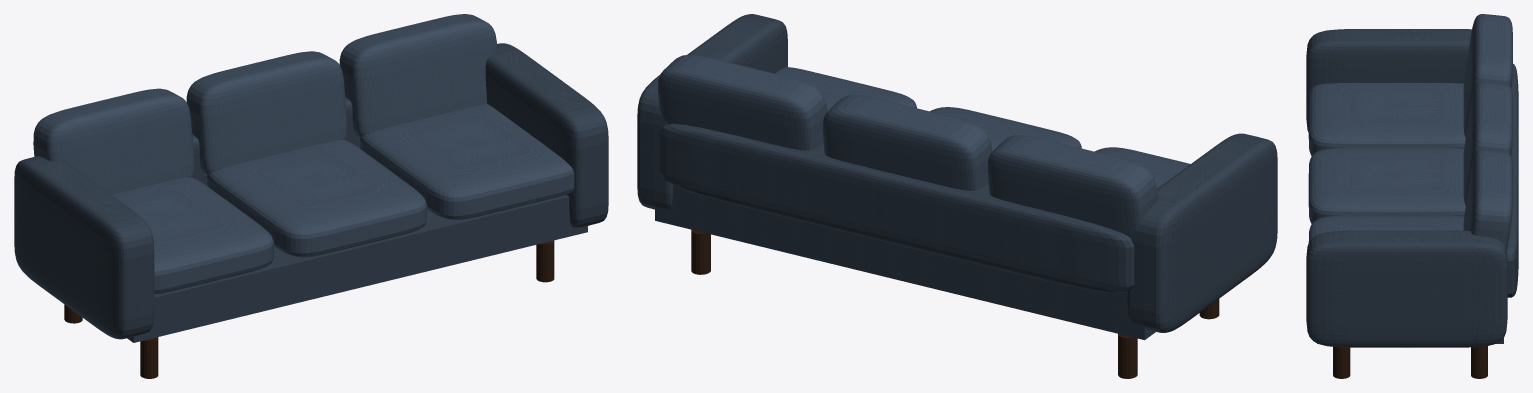
File: sofa-3_lod1.glb
3 views of the same model, side by side, from view 1: azimuth 30°, elevation 25°; view 2: azimuth 150°, elevation 25°; view 3: azimuth 270°, elevation 25° (orthographic). The views are drawn at different scales.
Visible parts, largest first — view 1: frame_base, arm_left, seat_2, seat_3, back_2, back_3, back_1, seat_1, arm_right, leg_4, leg_3, back_rail; view 2: back_rail, arm_left, frame_base, back_3, back_2, back_1, arm_right, seat_2, seat_3, seat_1, leg_2, leg_1; view 3: arm_right, seat_2, seat_1, arm_left, back_3, back_1, back_2, seat_3, back_rail, leg_4, leg_2.
Part boxes in pixels (x1,y1,x2,y2): frame_base: (127, 195, 587, 342); arm_left: (14, 156, 154, 339); seat_2: (207, 140, 426, 257); seat_3: (360, 104, 574, 219); back_2: (186, 51, 347, 176); back_3: (339, 14, 497, 138); back_1: (33, 88, 194, 194); seat_1: (112, 177, 273, 294); arm_right: (485, 43, 608, 228); leg_4: (536, 240, 554, 282); leg_3: (140, 337, 158, 378); back_rail: (192, 97, 359, 185); back_rail: (659, 123, 1134, 293); arm_left: (1127, 133, 1277, 332); frame_base: (655, 185, 1155, 340); back_3: (658, 55, 827, 150); back_2: (822, 95, 992, 190); back_1: (987, 135, 1157, 236); arm_right: (637, 14, 787, 209); seat_2: (930, 107, 1081, 151); seat_3: (775, 67, 916, 110); seat_1: (1095, 147, 1190, 188); leg_2: (691, 229, 710, 274); leg_1: (1118, 334, 1137, 378); arm_right: (1306, 230, 1507, 347); seat_2: (1308, 147, 1465, 223); seat_1: (1308, 83, 1465, 155); arm_left: (1306, 29, 1471, 132); back_3: (1463, 149, 1512, 250); back_1: (1463, 14, 1512, 137); back_2: (1463, 82, 1512, 205); seat_3: (1308, 215, 1464, 242); back_rail: (1507, 64, 1518, 297); leg_4: (1333, 346, 1350, 378); leg_2: (1471, 346, 1487, 378).
Size of the model in its own units: 2.2 by 0.85 by 0.9.
3 materials, 3 textured.
